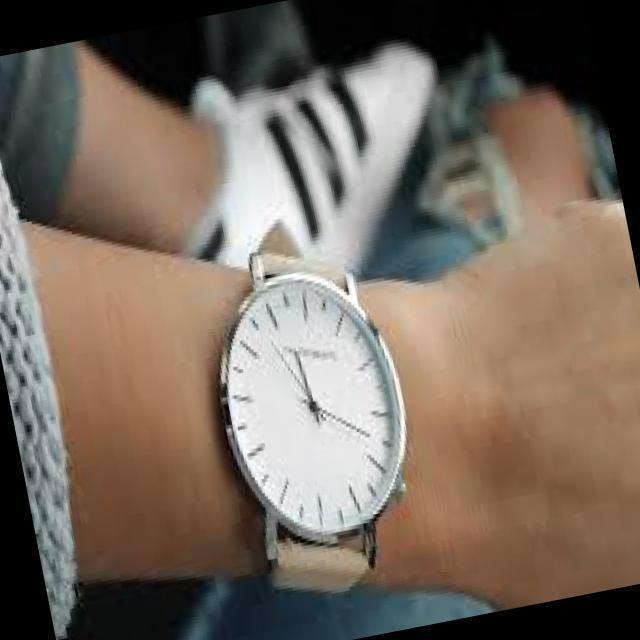Watch: (226, 248, 412, 596)
